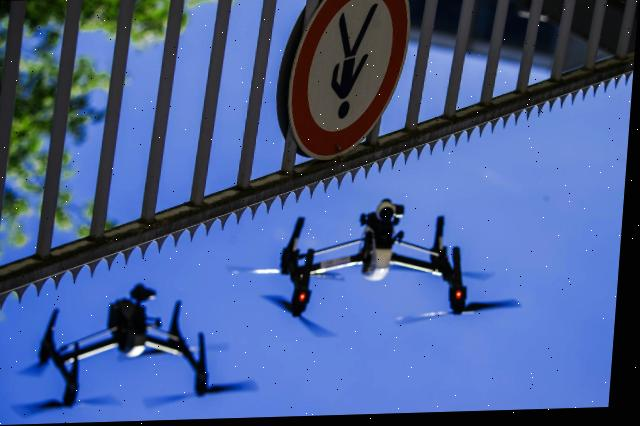drone: (219, 185, 540, 360), (0, 0, 640, 87)
